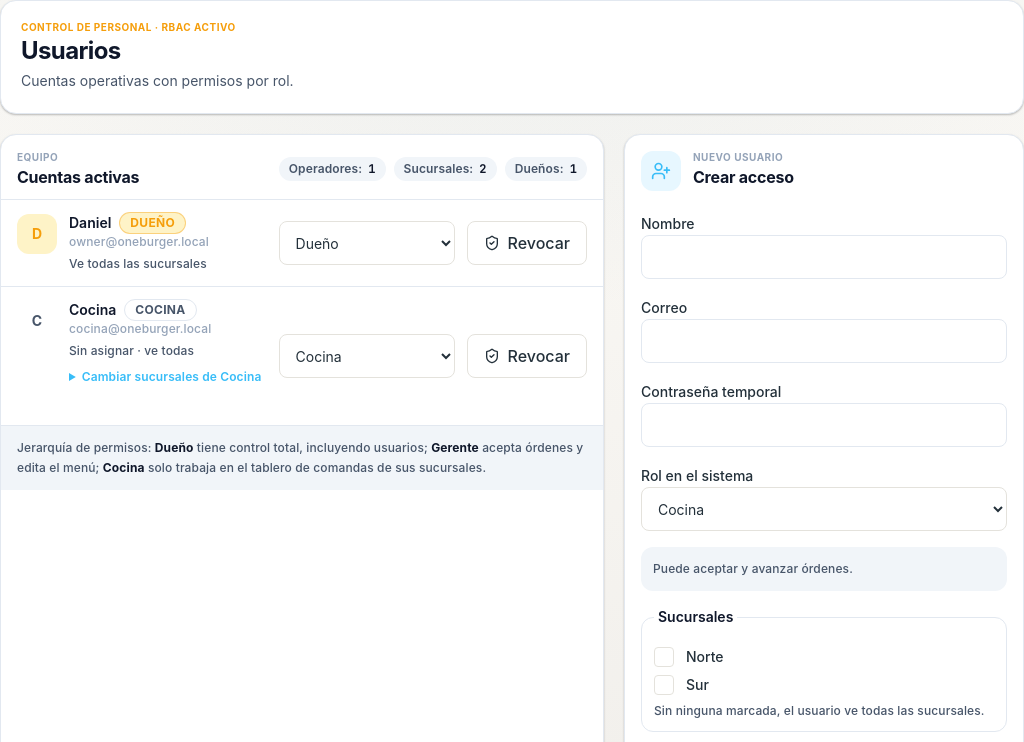
Test case: AdminUsersPage › sends a PATCH when the role changes
The image size is (1024, 742).
Select "Gerente" in the dropdown named "Rol de Cocina" at (366, 356), box [278,334,454,378]
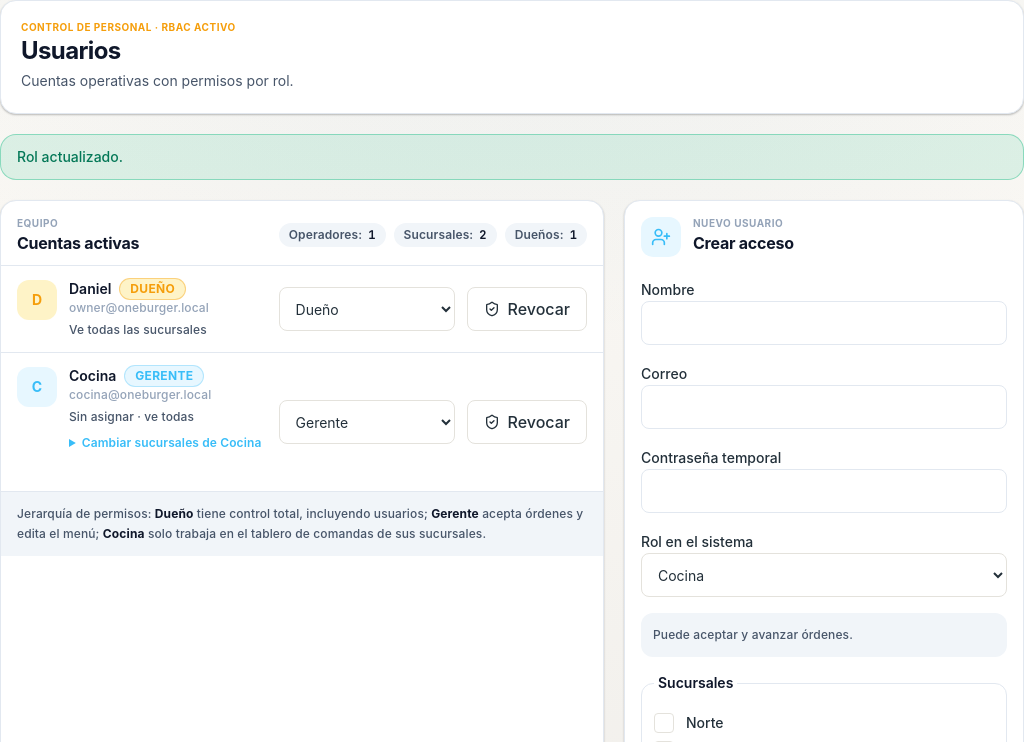
Now the text "Rol actualizado." is shown, box [0,134,1023,180]
